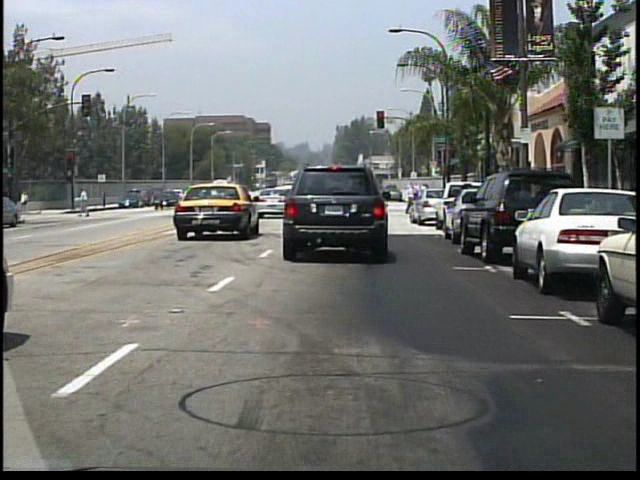person: (401, 183, 417, 215), (77, 187, 92, 220), (19, 188, 32, 212)
